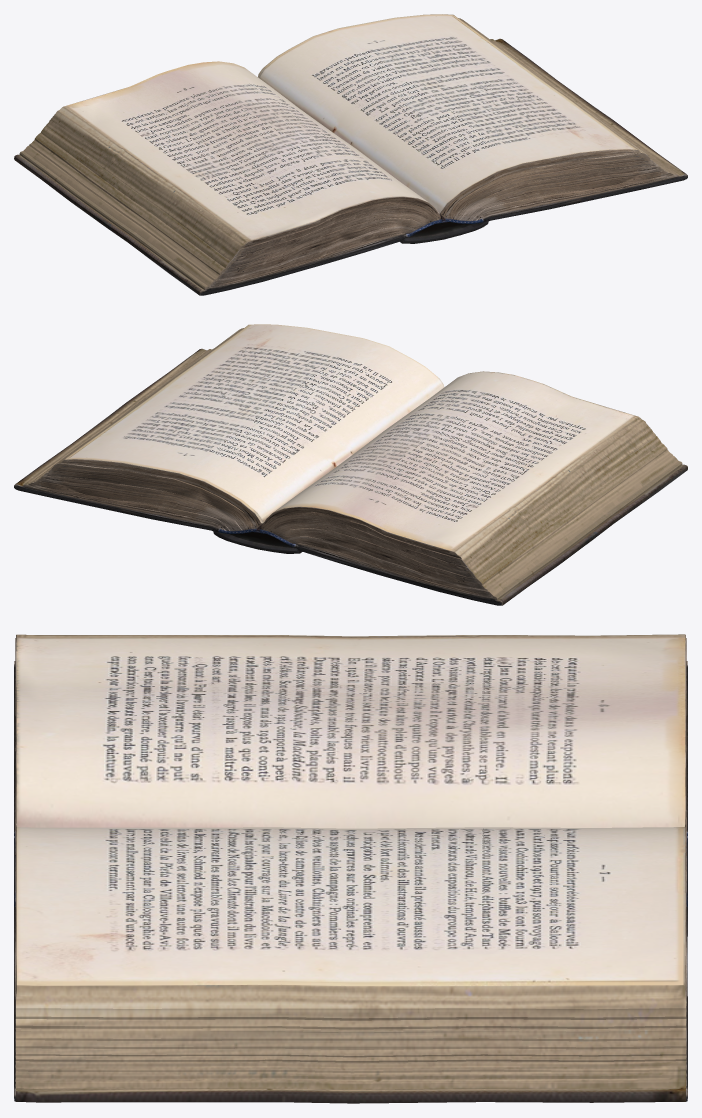
The model's file is Book.FBX.
3 renders of one model, top to bottom at view 1: azimuth 30°, elevation 25°; view 2: azimuth 150°, elevation 25°; view 3: azimuth 270°, elevation 25°, orthographic. The views are drawn at different scales.
Parts seen in each view (by area): view 1: book; view 2: book; view 3: book.
Boxes of the visible parts, x1,y1,x2,y2 form: book: [14, 14, 687, 295]; book: [14, 324, 687, 605]; book: [14, 634, 687, 1103].
Size of the model in its own units: 32.59 by 3.64 by 21.45.
1 material, 1 textured.
